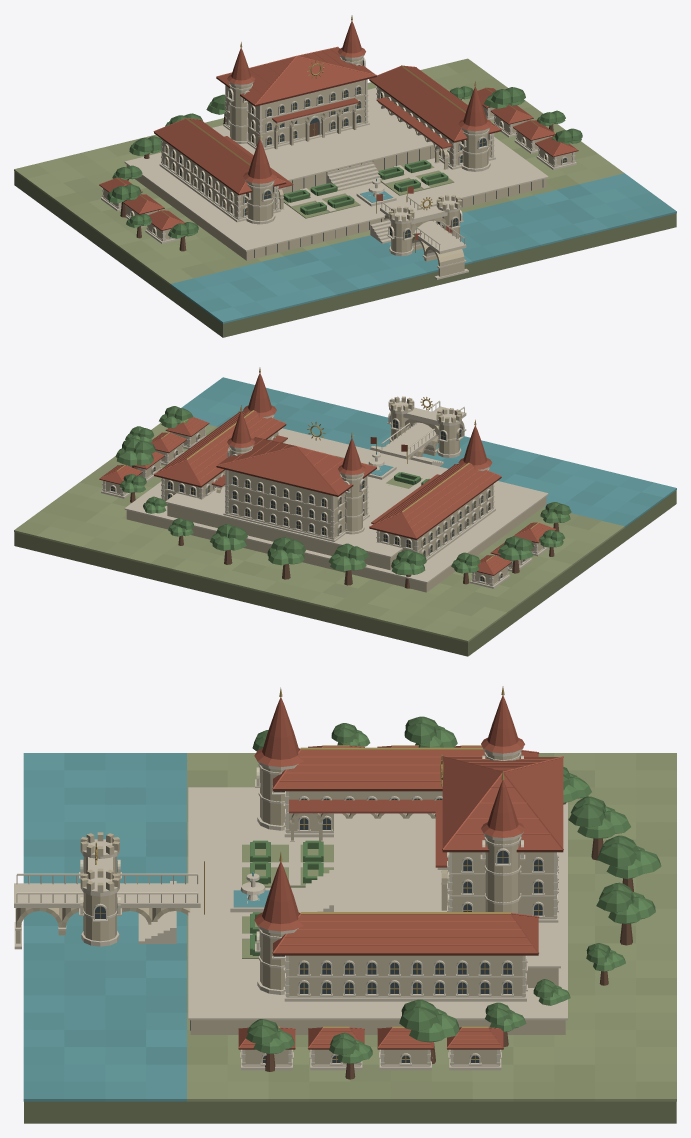
File: river.glb
3 renders of one model, top to bottom at view 1: azimuth 30°, elevation 25°; view 2: azimuth 150°, elevation 25°; view 3: azimuth 270°, elevation 25°, orthographic. The views are drawn at different scales.
Visible parts, largest first — view 1: site, terraces, royal-hall, landscape, royal-hall-roof, east-wing-roof, west-wing-roof, entry, formal-court, west-wing, landscape-roof, east-wing (+1 smaller); view 2: site, terraces, landscape, royal-hall, royal-hall-roof, west-wing-roof, east-wing-roof, entry, west-wing, landscape-roof, east-wing, formal-court (+1 smaller); view 3: site, terraces, landscape, east-wing, royal-hall-roof, east-wing-roof, west-wing-roof, entry, royal-hall, formal-court, west-wing, landscape-roof (+1 smaller).
Part boxes in pixels (left/top/right/bottom): site: left=14, top=58, right=676, bottom=337; terraces: left=124, top=87, right=548, bottom=260; royal-hall: left=223, top=54, right=369, bottom=150; landscape: left=101, top=86, right=582, bottom=251; royal-hall-roof: left=216, top=15, right=376, bottom=122; east-wing-roof: left=369, top=65, right=501, bottom=148; west-wing-roof: left=153, top=118, right=293, bottom=195; entry: left=380, top=195, right=468, bottom=279; formal-court: left=278, top=160, right=454, bottom=218; west-wing: left=159, top=139, right=285, bottom=224; landscape-roof: left=99, top=87, right=578, bottom=230; east-wing: left=376, top=86, right=495, bottom=171; site: left=14, top=377, right=676, bottom=656; terraces: left=124, top=428, right=548, bottom=592; landscape: left=101, top=406, right=571, bottom=588; royal-hall: left=223, top=444, right=369, bottom=541; royal-hall-roof: left=216, top=405, right=376, bottom=496; west-wing-roof: left=369, top=419, right=501, bottom=539; east-wing-roof: left=153, top=367, right=287, bottom=487; entry: left=380, top=400, right=466, bottom=459; west-wing: left=376, top=466, right=495, bottom=560; landscape-roof: left=99, top=417, right=556, bottom=575; east-wing: left=161, top=414, right=285, bottom=505; formal-court: left=325, top=452, right=429, bottom=491; site: left=23, top=753, right=676, bottom=1123; terraces: left=138, top=787, right=567, bottom=1034; landscape: left=240, top=716, right=661, bottom=1079; east-wing: left=255, top=924, right=527, bottom=1001; royal-hall-roof: left=435, top=686, right=563, bottom=867; east-wing-roof: left=254, top=852, right=539, bottom=955; west-wing-roof: left=254, top=687, right=538, bottom=813; entry: left=14, top=839, right=200, bottom=949; royal-hall: left=437, top=747, right=558, bottom=922; formal-court: left=230, top=840, right=333, bottom=958; west-wing: left=255, top=759, right=442, bottom=841; landscape-roof: left=238, top=745, right=503, bottom=1049.
Bounding box in the file's own units: 59.01 × 17.74 × 47.76.
